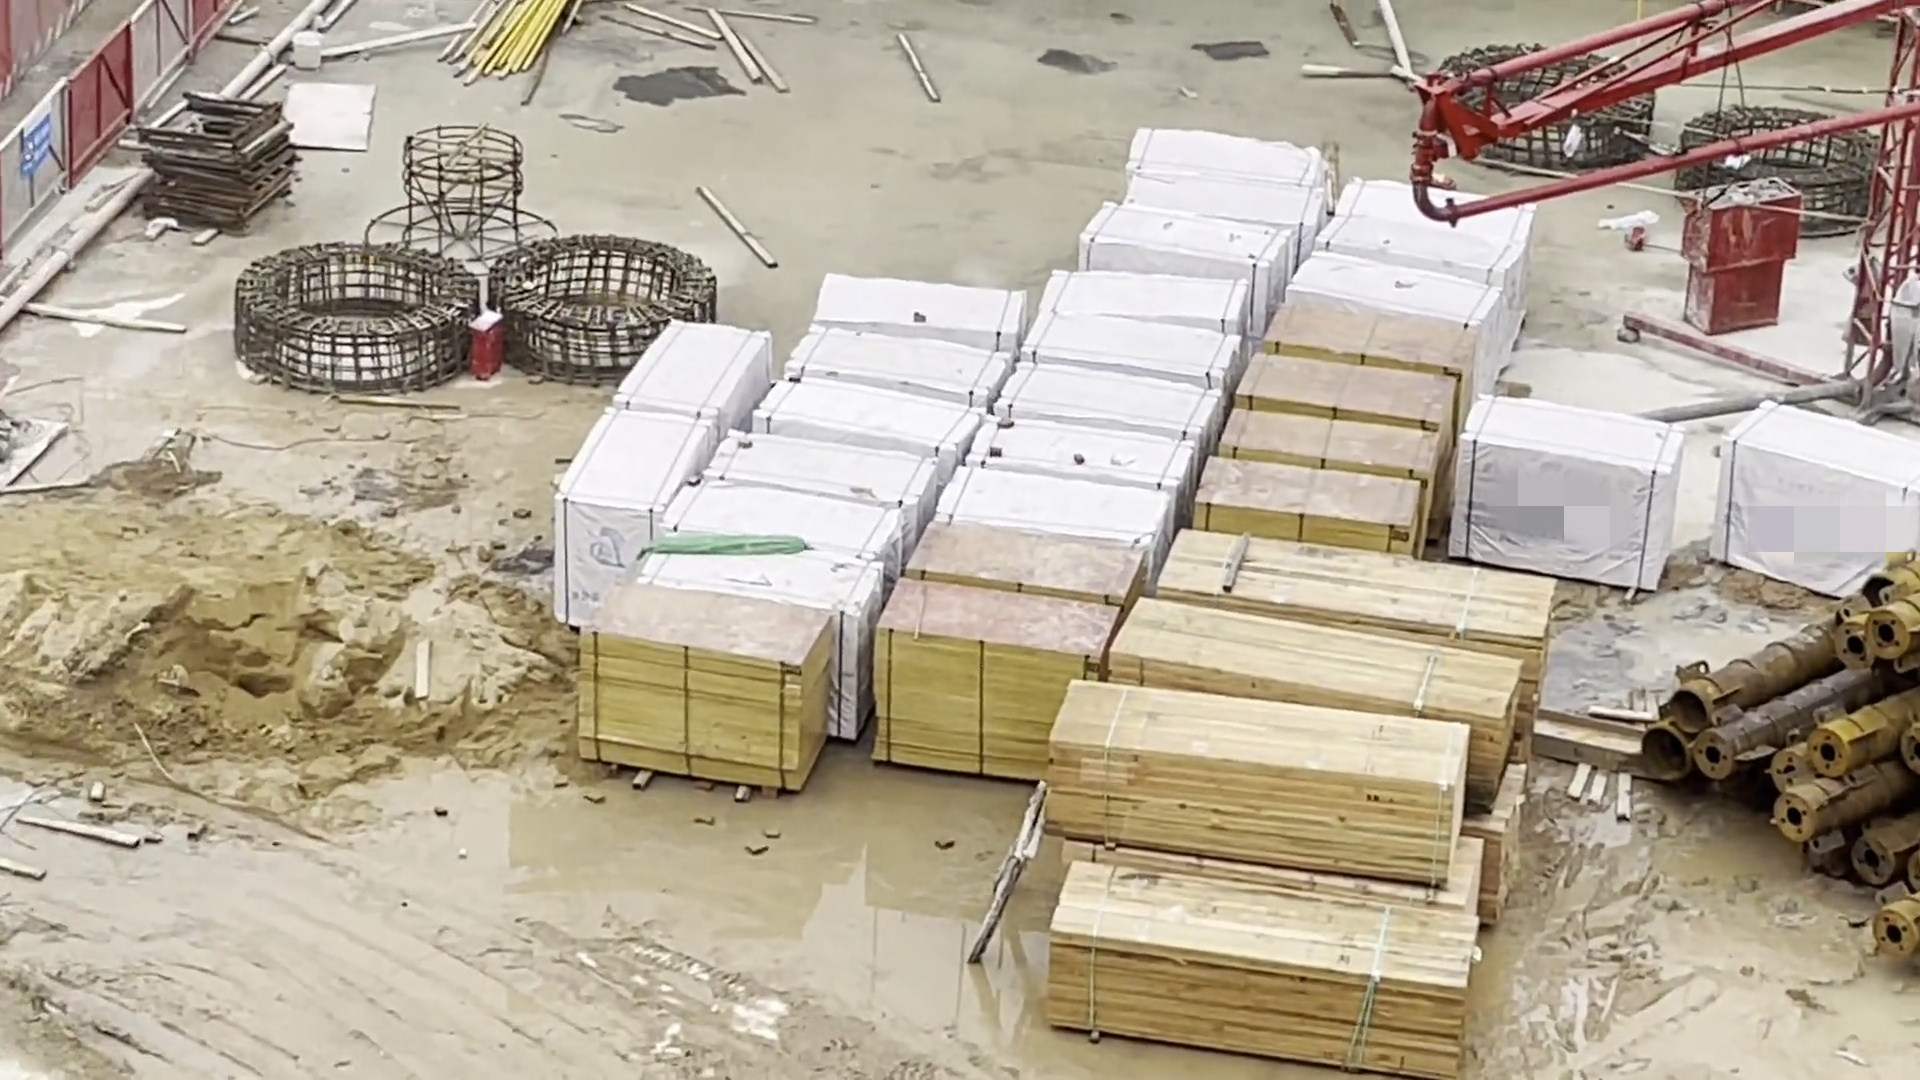fence: (22, 1, 170, 233)
wood: (1027, 843, 1476, 1080), (1042, 673, 1453, 866), (568, 578, 847, 796), (1124, 595, 1549, 727), (877, 571, 1108, 814), (1171, 520, 1565, 661), (1195, 448, 1429, 571), (913, 513, 1124, 604), (1230, 351, 1472, 429), (1265, 294, 1494, 368), (1238, 417, 1439, 487)
